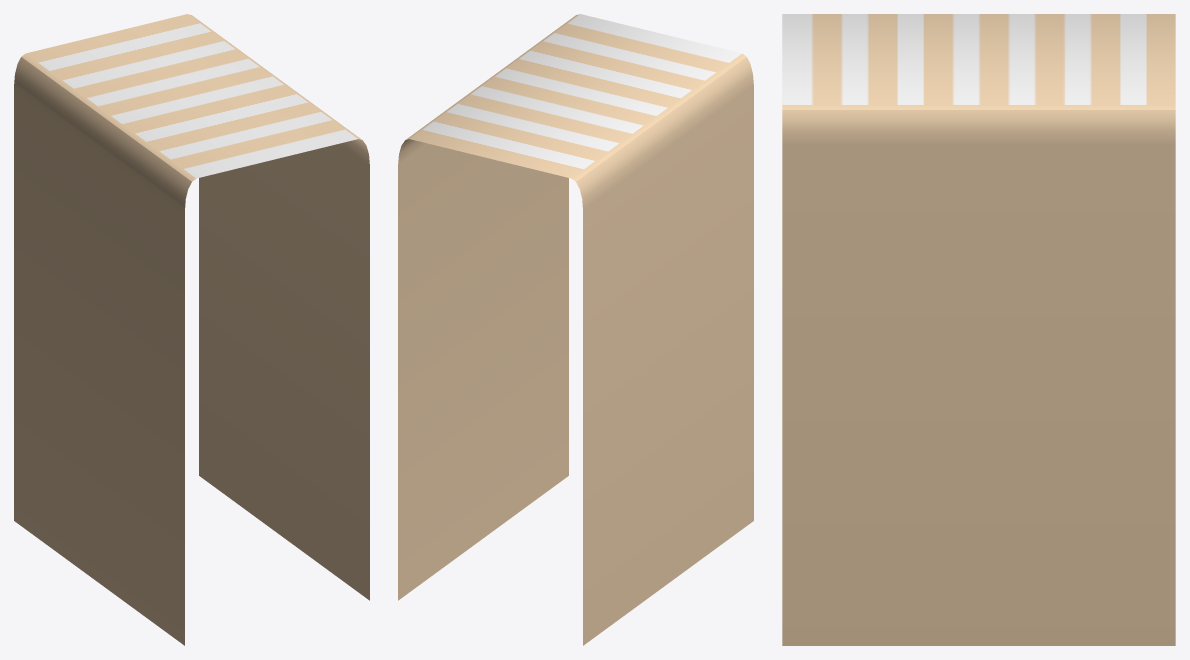
Rendered from Platform.fbx.
The picture shows the model from 3 angles, left to right: view 1: azimuth 30°, elevation 25°; view 2: azimuth 150°, elevation 25°; view 3: azimuth 270°, elevation 25°; orthographic projection. The views are drawn at different scales.
Visible parts, largest first — view 1: Platfıorm; view 2: Platfıorm; view 3: Platfıorm.
Boxes of the visible parts, x1,y1,x2,y2 form: Platfıorm: [14, 14, 369, 645]; Platfıorm: [398, 14, 753, 645]; Platfıorm: [782, 14, 1175, 645].
Size of the model in its own units: 5 by 12 by 8.
